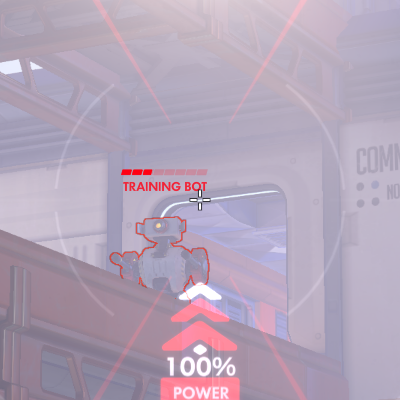hpbar: (120, 168, 208, 176)
